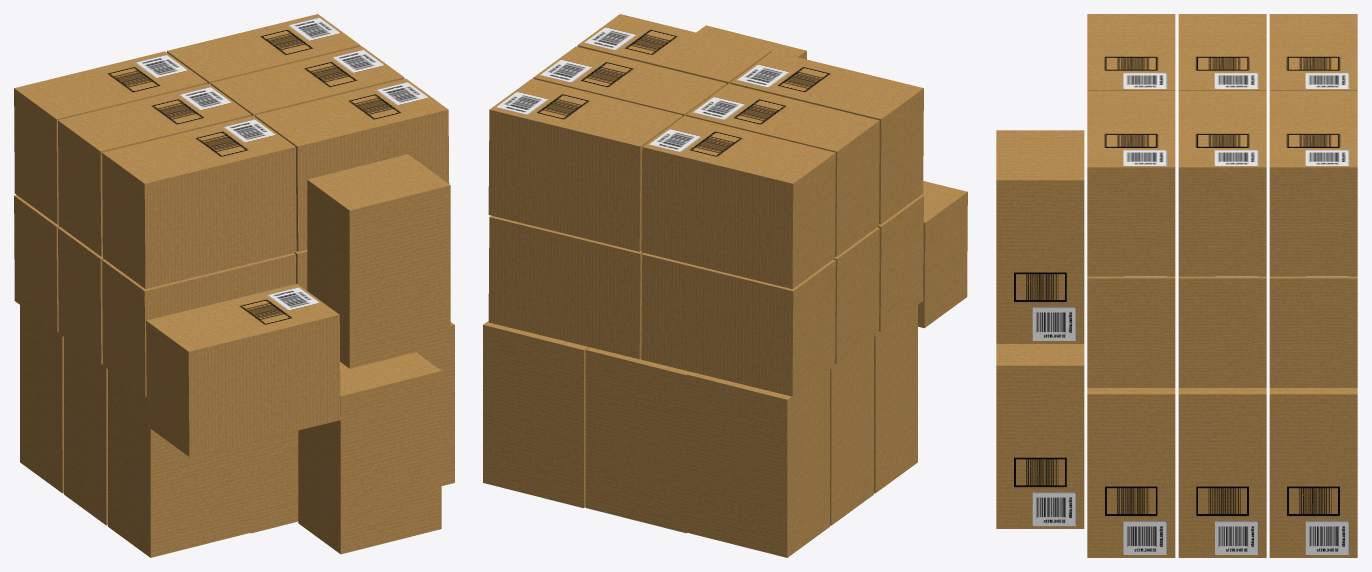
The model's file is shippingBoxes.obj.
The picture shows the model from 3 angles, left to right: view 1: azimuth 30°, elevation 25°; view 2: azimuth 150°, elevation 25°; view 3: azimuth 270°, elevation 25°; orthographic projection. The views are drawn at different scales.
Size of the model in its own units: 1.77 by 2.05 by 1.72.
1 material, 1 textured.
